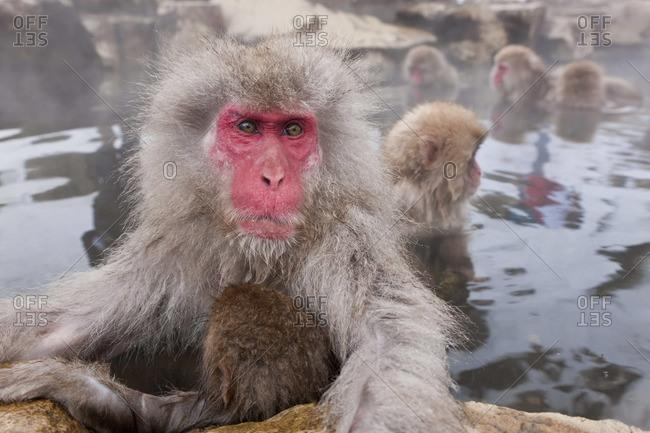monkey: (0, 34, 488, 433)
